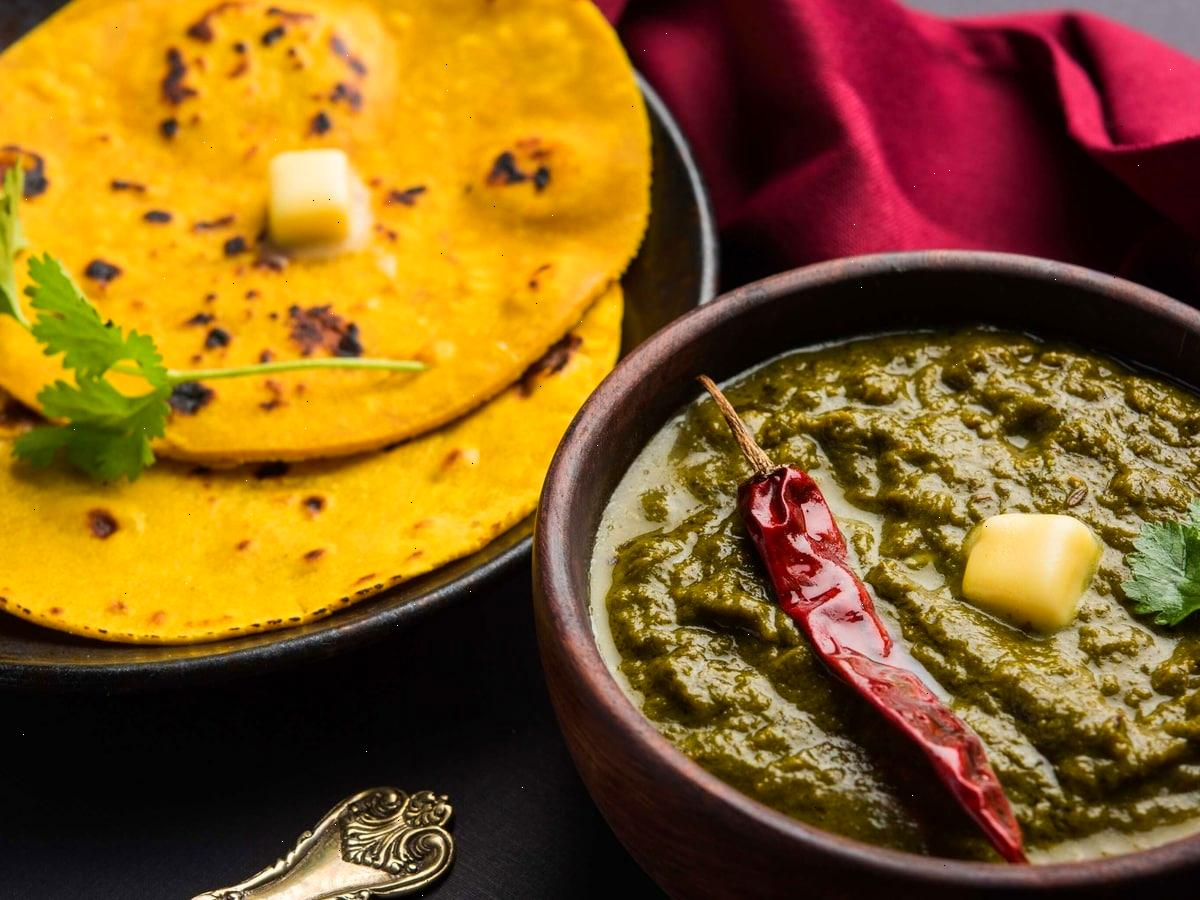saag: (590, 329, 1200, 857)
